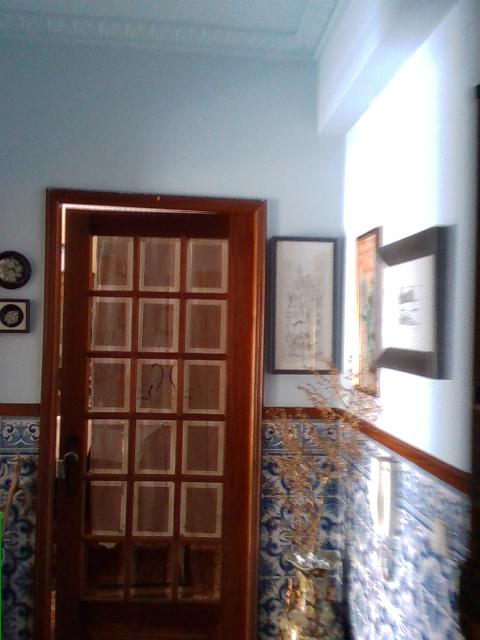door: (35, 187, 268, 639)
